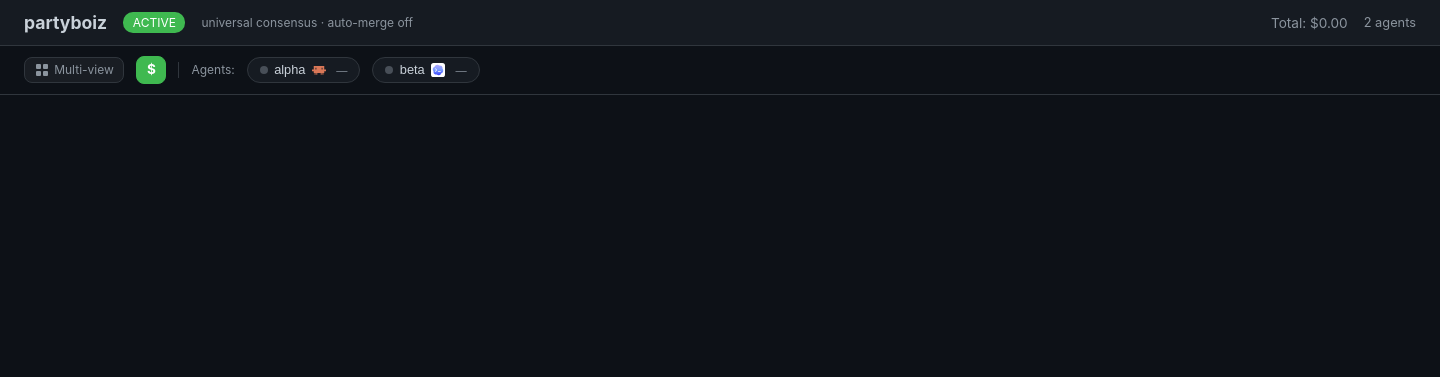
Test: MissionControl › shows agent tooltip on hover over an agent pill
The width and height of the screenshot is (1440, 377).
Hover over the button "alpha —".
mouse_move(304, 70)  # box x1=247 y1=57 x2=360 y2=83
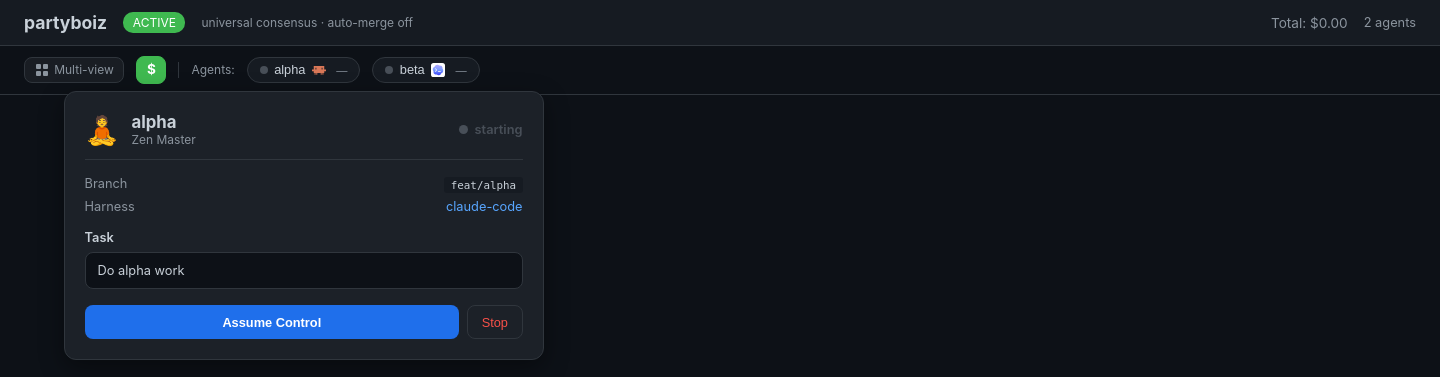
expect the button "Assume Control" is shown: met, box x1=85 y1=305 x2=459 y2=339
